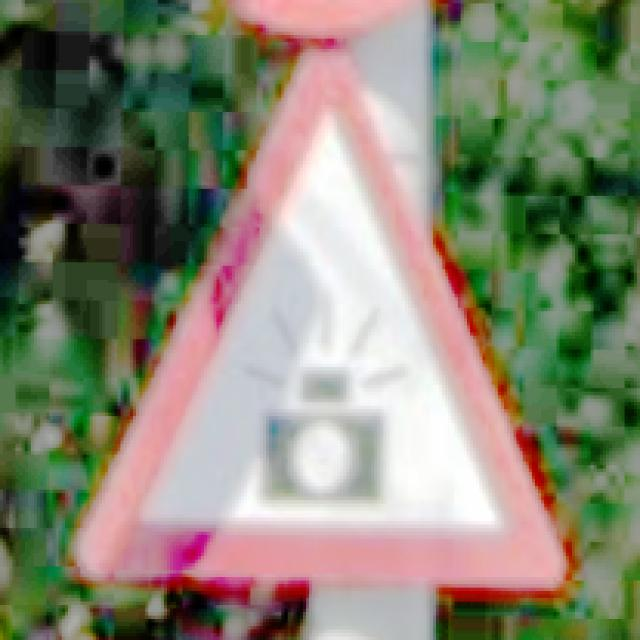speedcamera: (71, 0, 572, 598)
